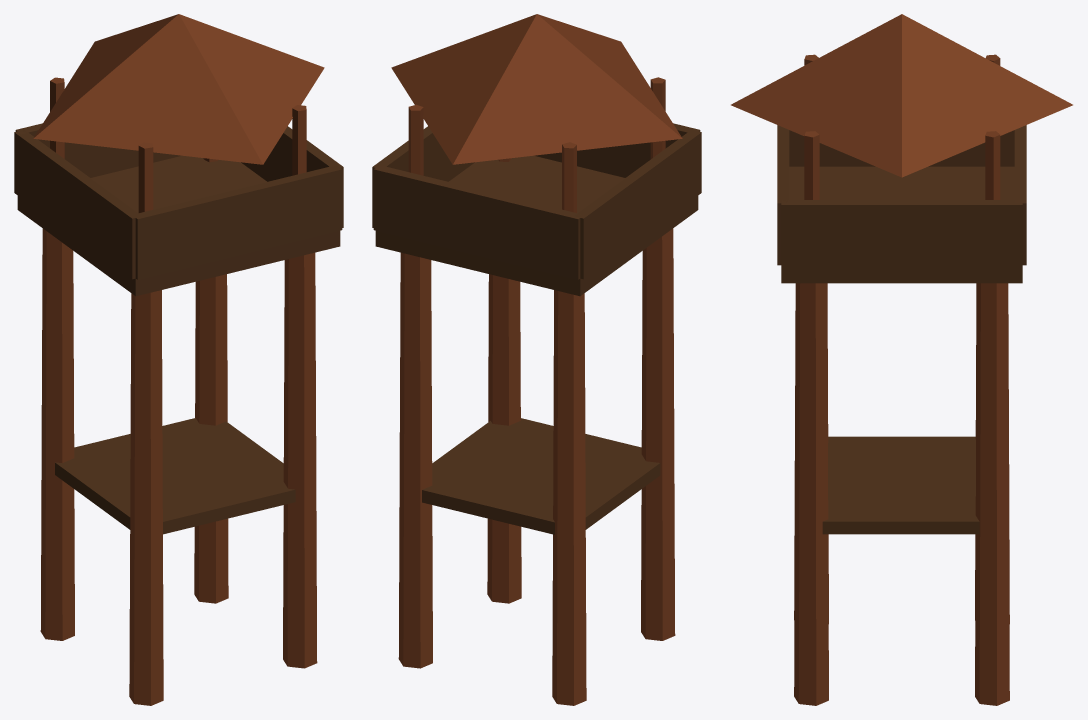
The model's file is orc_tower_broken.glb.
3 renders of one model, left to right at view 1: azimuth 30°, elevation 25°; view 2: azimuth 150°, elevation 25°; view 3: azimuth 270°, elevation 25°, orthographic. The views are drawn at different scales.
Parts seen in each view (by area): view 1: orc_tower_piece2, orc_tower_piece12, orc_tower_piece6, orc_tower_piece1, orc_tower_piece0, orc_tower_piece4, orc_tower_piece3, orc_tower_piece10, orc_tower_piece8, orc_tower_piece5, orc_tower_piece11, orc_tower_piece9; view 2: orc_tower_piece2, orc_tower_piece5, orc_tower_piece4, orc_tower_piece3, orc_tower_piece12, orc_tower_piece0, orc_tower_piece1, orc_tower_piece10, orc_tower_piece8, orc_tower_piece6, orc_tower_piece11, orc_tower_piece9 (+1 smaller); view 3: orc_tower_piece5, orc_tower_piece2, orc_tower_piece8, orc_tower_piece6, orc_tower_piece4, orc_tower_piece0, orc_tower_piece12, orc_tower_piece1, orc_tower_piece9, orc_tower_piece3, orc_tower_piece10, orc_tower_piece11.
Boxes of the visible parts, box(x1,y1,x2,y2) form: orc_tower_piece2: box(40, 387, 317, 705); orc_tower_piece12: box(40, 60, 289, 312); orc_tower_piece6: box(199, 137, 343, 387); orc_tower_piece1: box(73, 220, 315, 486); orc_tower_piece0: box(58, 14, 306, 209); orc_tower_piece4: box(103, 275, 244, 603); orc_tower_piece3: box(14, 123, 73, 518); orc_tower_piece10: box(14, 117, 105, 274); orc_tower_piece8: box(78, 28, 324, 208); orc_tower_piece5: box(76, 29, 254, 276); orc_tower_piece11: box(41, 412, 125, 571); orc_tower_piece9: box(47, 69, 135, 309); orc_tower_piece2: box(467, 327, 675, 705); orc_tower_piece5: box(372, 84, 536, 354); orc_tower_piece4: box(398, 327, 516, 668); orc_tower_piece3: box(531, 207, 606, 592); orc_tower_piece12: box(523, 23, 701, 258); orc_tower_piece0: box(468, 14, 603, 152); orc_tower_piece1: box(433, 148, 698, 514); orc_tower_piece10: box(557, 132, 682, 276); orc_tower_piece8: box(391, 39, 536, 203); orc_tower_piece6: box(460, 38, 627, 330); orc_tower_piece11: box(507, 486, 604, 645); orc_tower_piece9: box(517, 136, 676, 253); orc_tower_piece5: box(932, 65, 1072, 389); orc_tower_piece2: box(794, 297, 1009, 705); orc_tower_piece8: box(828, 59, 997, 283); orc_tower_piece6: box(731, 93, 876, 435); orc_tower_piece4: box(941, 356, 1009, 705); orc_tower_piece0: box(804, 14, 986, 199); orc_tower_piece12: box(752, 43, 929, 199); orc_tower_piece1: box(789, 177, 975, 534); orc_tower_piece9: box(851, 54, 1023, 199); orc_tower_piece3: box(938, 137, 1014, 460); orc_tower_piece10: box(914, 130, 1014, 176); orc_tower_piece11: box(937, 435, 1009, 559).
Size of the model in its own units: 1.71 by 3.55 by 1.71.
